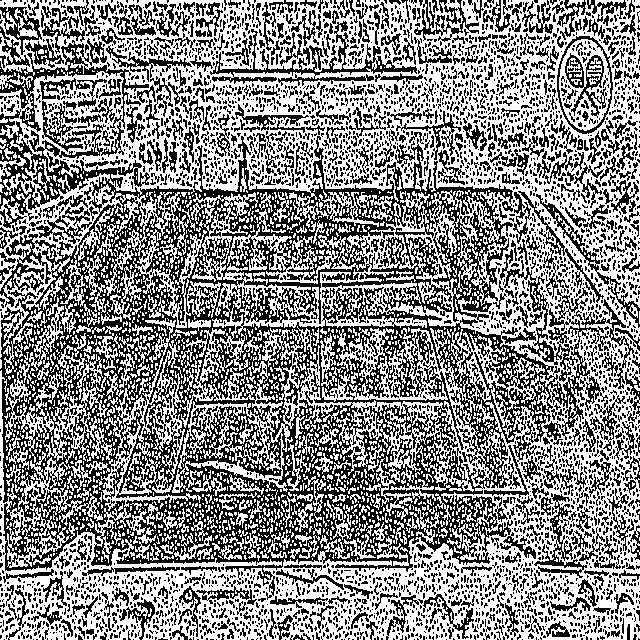left side: (403, 232, 527, 493), (117, 233, 235, 496)
player: (273, 368, 302, 486), (386, 158, 404, 227)
